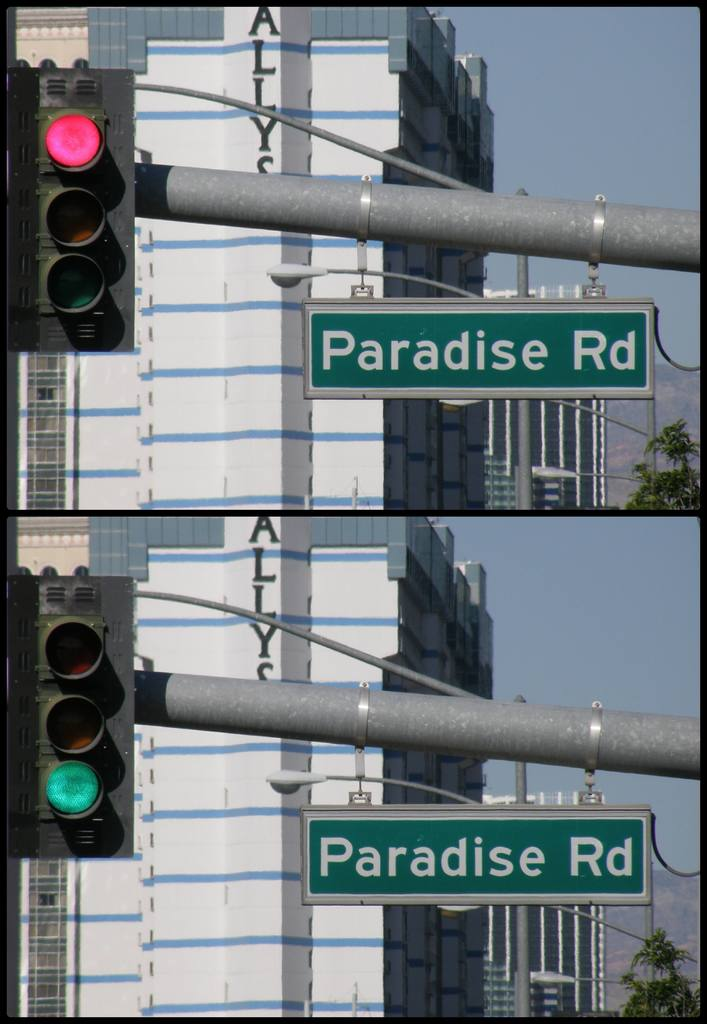green_light: (28, 613, 116, 852)
red_light: (38, 103, 120, 335)
